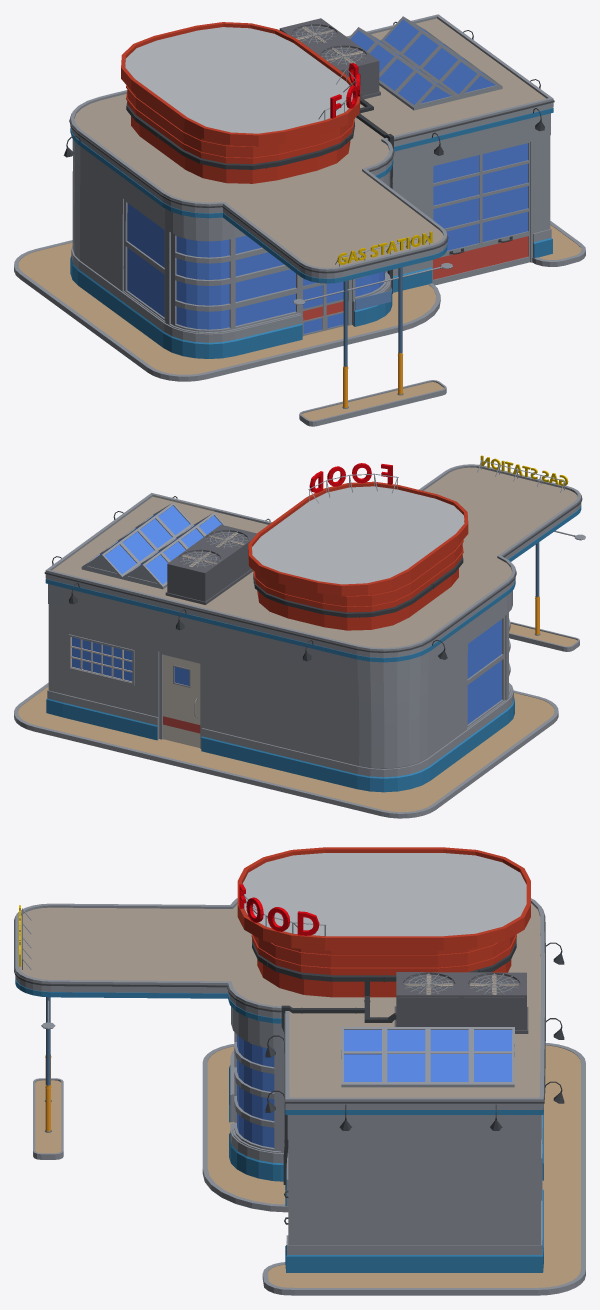
The model's file is Gas_Station.gltf.
3 views of the same model, one above another, from view 1: azimuth 30°, elevation 25°; view 2: azimuth 150°, elevation 25°; view 3: azimuth 270°, elevation 25° (orthographic). The views are drawn at different scales.
Parts seen in each view (by area): view 1: Gas_Station; view 2: Gas_Station; view 3: Gas_Station.
Part boxes in pixels (box(x1,y1,x2,y2)): Gas_Station: box(14, 14, 585, 426); Gas_Station: box(14, 455, 585, 818); Gas_Station: box(14, 847, 585, 1295).
Size of the model in its own units: 10.17 by 5.02 by 9.93.
